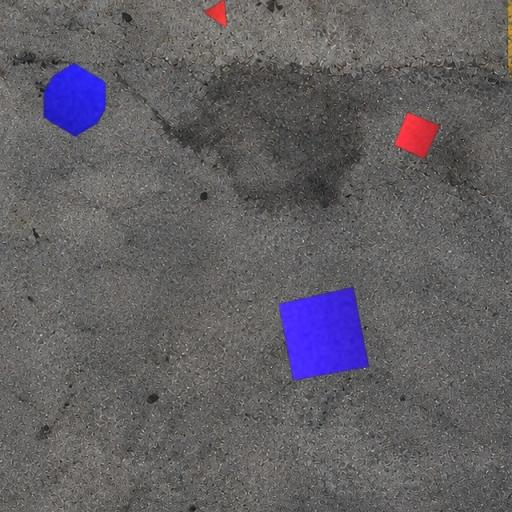BLUE_SQUARE: (278, 286, 370, 382)
RED_SQUARE: (394, 111, 440, 160)
